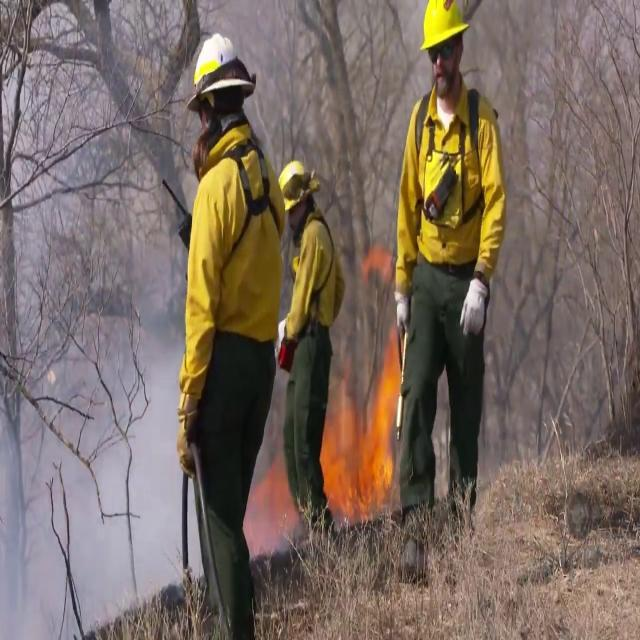Fire: (318, 238, 404, 516), (244, 450, 298, 514)
Smoke: (0, 180, 204, 640), (243, 501, 304, 561)
